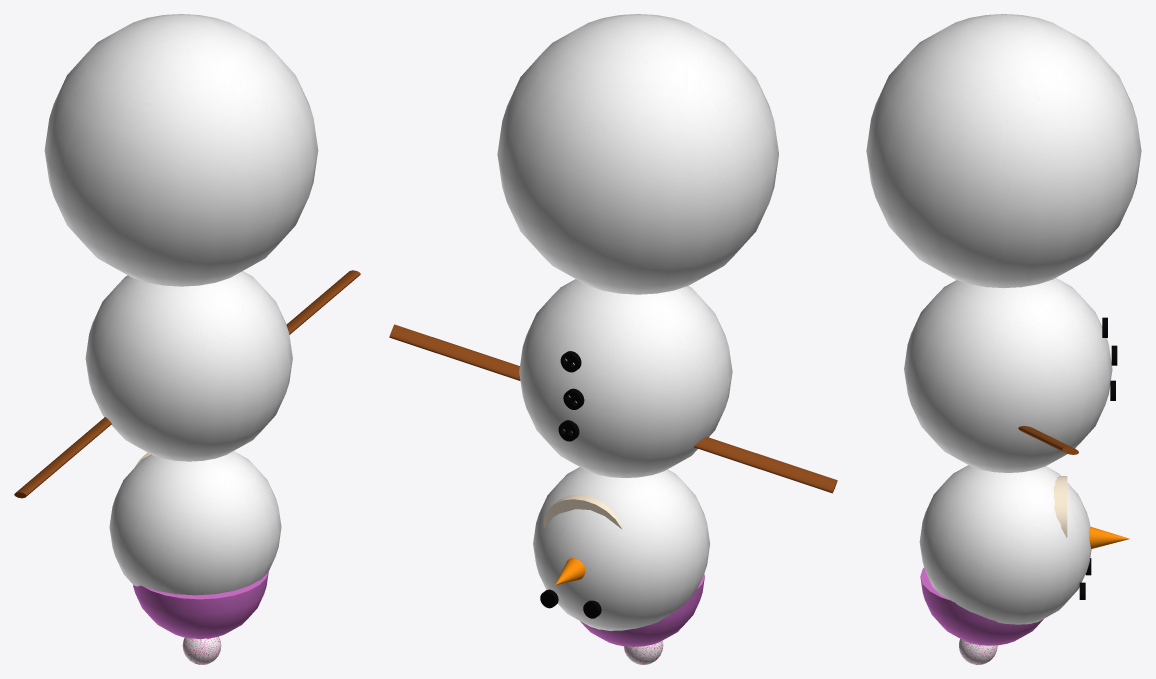
The picture shows the model from 3 angles, left to right: view 1: azimuth 30°, elevation 25°; view 2: azimuth 150°, elevation 25°; view 3: azimuth 270°, elevation 25°; orthographic projection. The views are drawn at different scales.
Parts seen in each view (by area): view 1: SketchUp, ID129, group_5, group_7, group_3, ID135; view 2: SketchUp, ID129, group_7, group_5, group_3, Component_1; view 3: SketchUp, ID129, group_5, Component_1, ID135, group_3, group_2.
Part boxes in pixels (x1,y1,x2,y2): SketchUp: [44, 14, 318, 286]; ID129: [85, 271, 292, 595]; group_5: [133, 572, 268, 638]; group_7: [14, 417, 111, 498]; group_3: [286, 270, 360, 334]; ID135: [182, 636, 221, 664]; SketchUp: [497, 14, 778, 294]; ID129: [519, 279, 732, 630]; group_7: [694, 437, 837, 493]; group_5: [580, 574, 704, 646]; group_3: [389, 324, 520, 380]; Component_1: [543, 494, 622, 529]; SketchUp: [866, 14, 1141, 287]; ID129: [904, 278, 1112, 624]; group_5: [920, 567, 1043, 645]; Component_1: [1053, 476, 1067, 537]; ID135: [959, 639, 997, 664]; group_3: [1018, 426, 1078, 454]; group_2: [1089, 526, 1129, 549].
Size of the model in its own units: 19.37 by 11.88 by 30.15.
